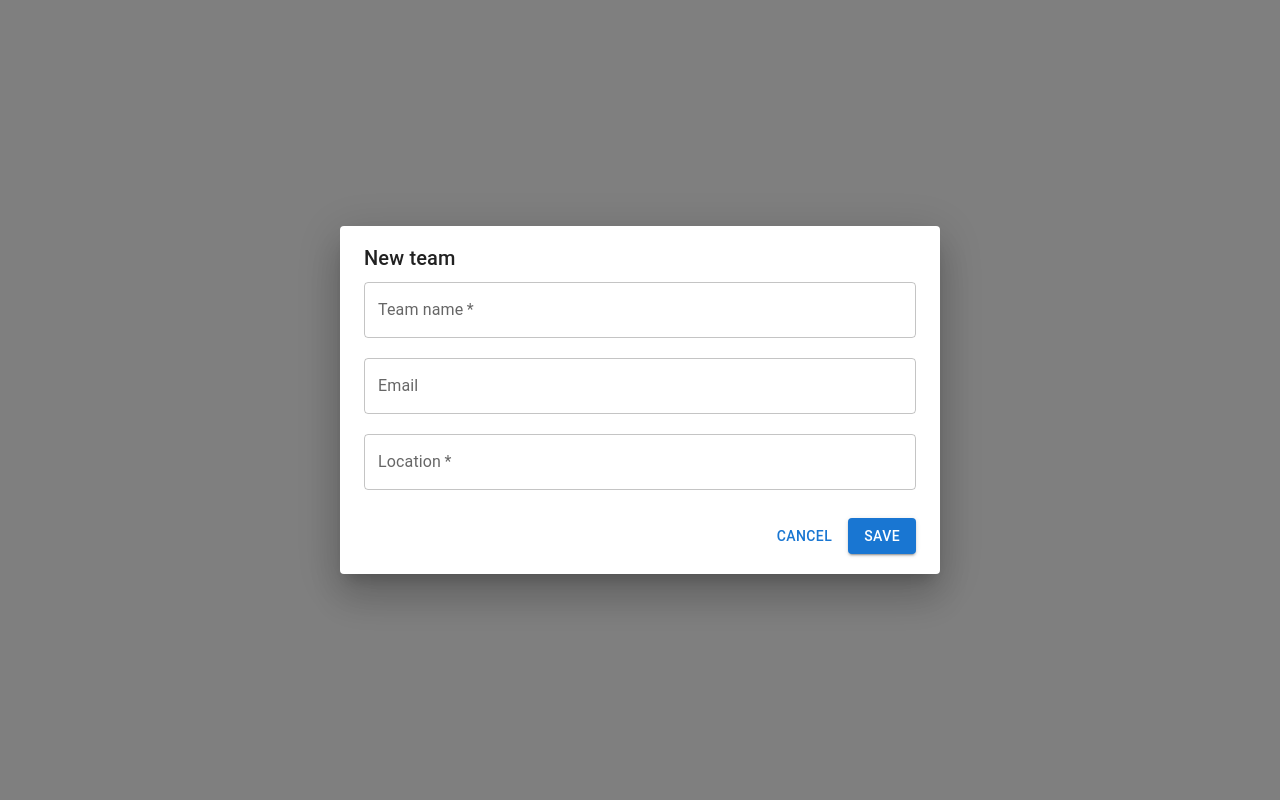
it: validation › names each field that failed
Click the button "Save" at (882, 536), box left=848, top=518, right=916, bottom=554
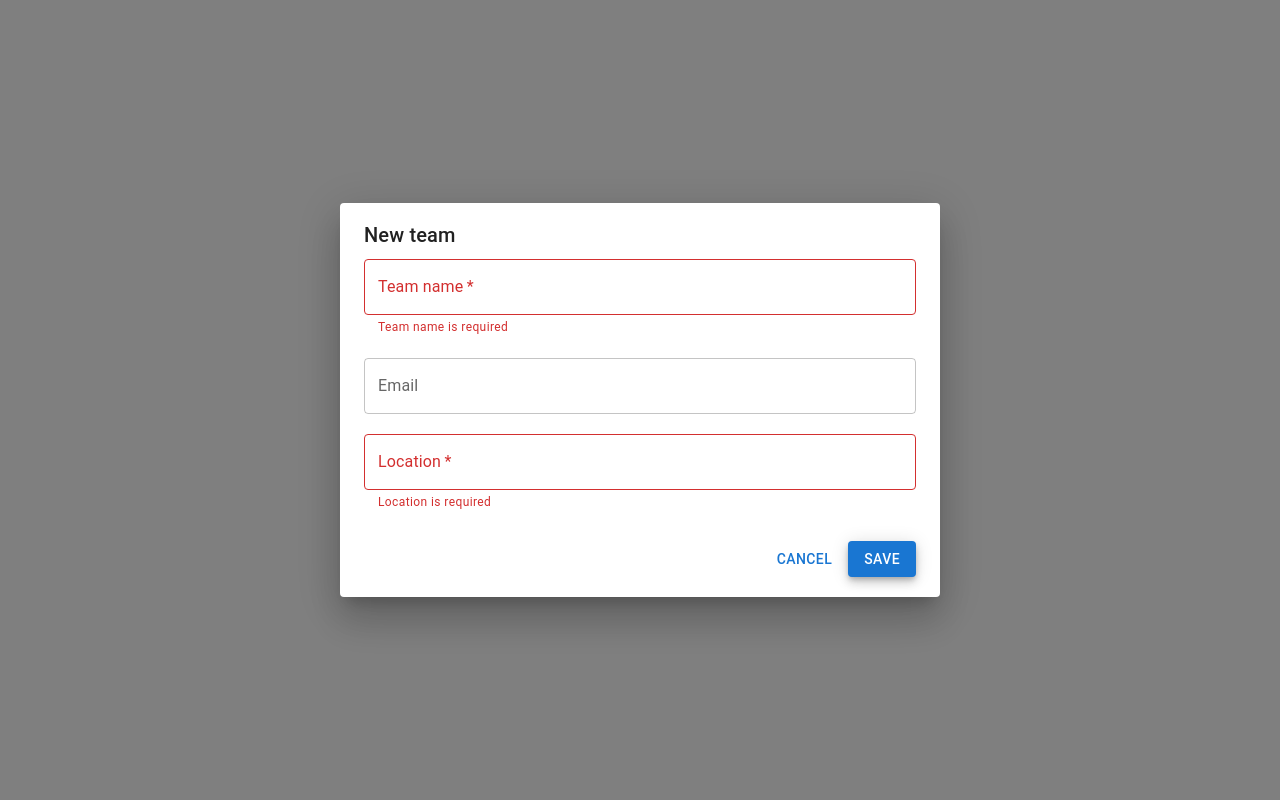
Now the text "Team name is required" is shown, box left=378, top=320, right=508, bottom=334
Now the text "Location is required" is shown, box left=378, top=495, right=491, bottom=509
